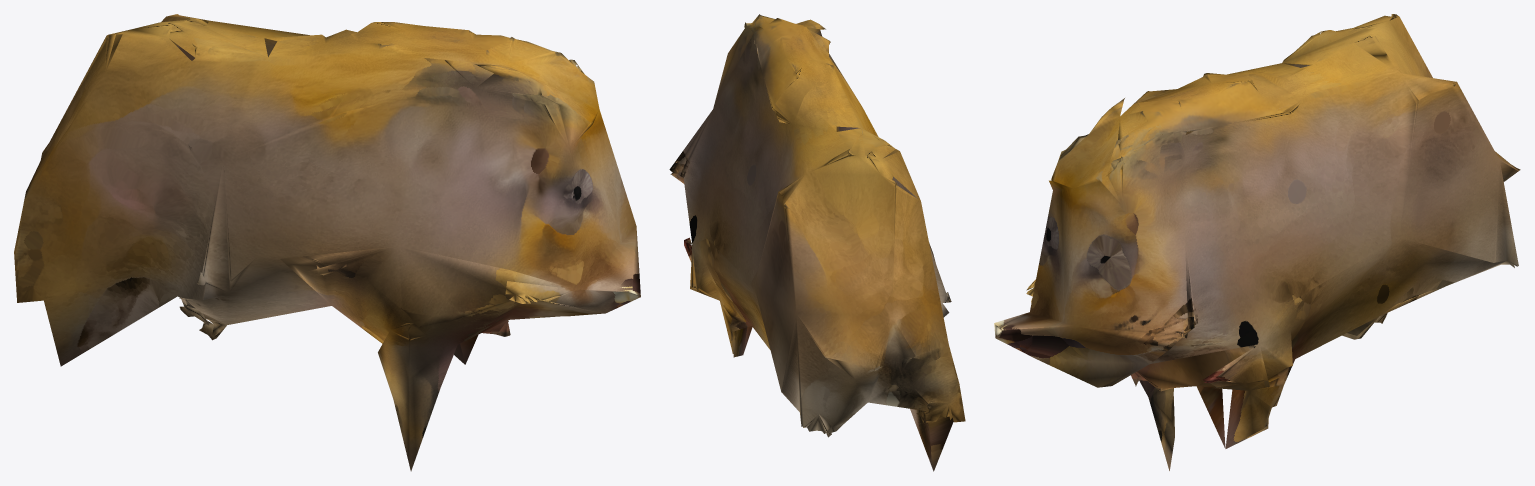
The model's file is hoglin_single_1500_r1.glb.
3 renders of one model, left to right at view 1: azimuth 30°, elevation 25°; view 2: azimuth 150°, elevation 25°; view 3: azimuth 270°, elevation 25°, orthographic. The views are drawn at different scales.
Bounding box in the file's own units: 0.7756 × 0.6738 × 0.8016.
Materials: 1 (1 with a texture image).
